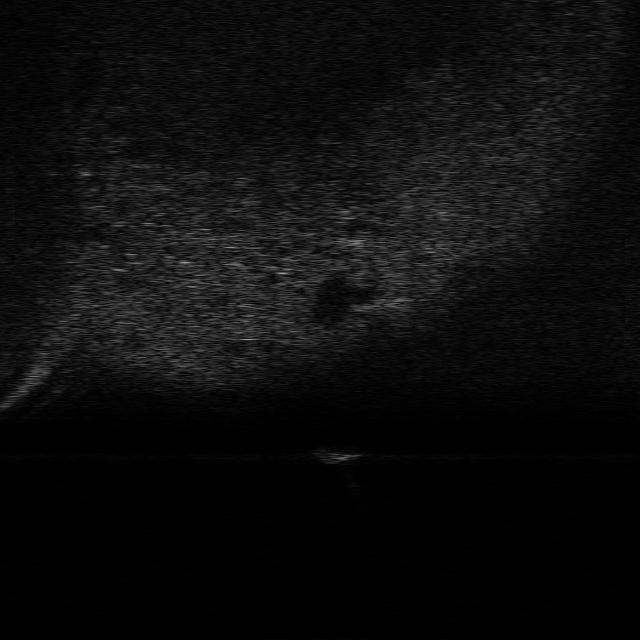cube: (310, 446, 362, 466)
